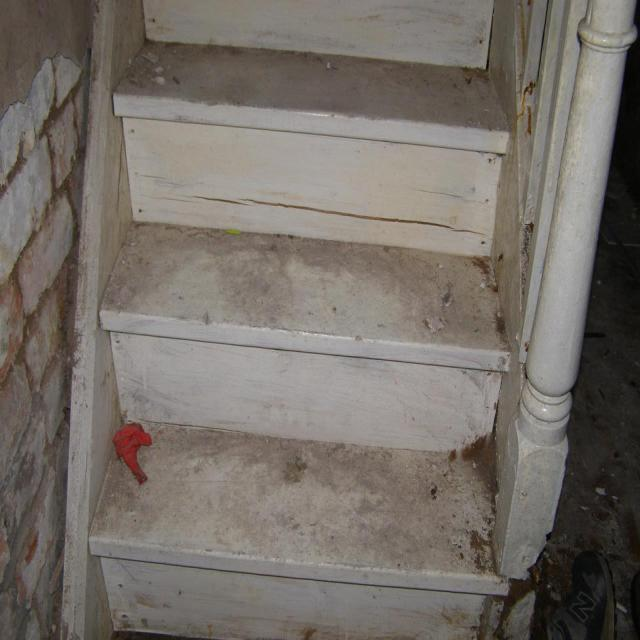crack: (175, 179, 487, 268), (137, 49, 170, 85)
crack_mold_damp_spalling_cor: (175, 179, 487, 268), (137, 49, 170, 85)
rotten: (64, 5, 148, 632), (122, 116, 499, 253), (505, 3, 583, 352), (96, 4, 147, 98)
